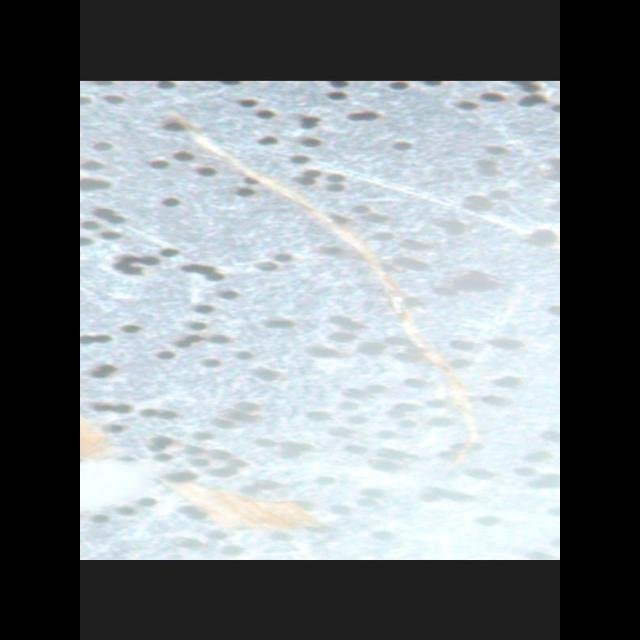Fibre: (153, 106, 512, 474), (80, 403, 324, 542)
